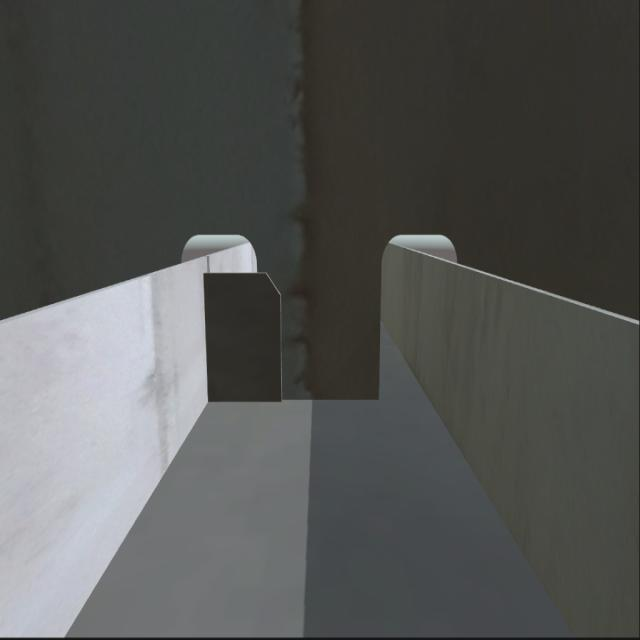fillet_yong_jeop_jang: (204, 385, 384, 411)
longi_yong_jeop_jang: (198, 265, 215, 402)
plate_CP03: (206, 266, 284, 402)
